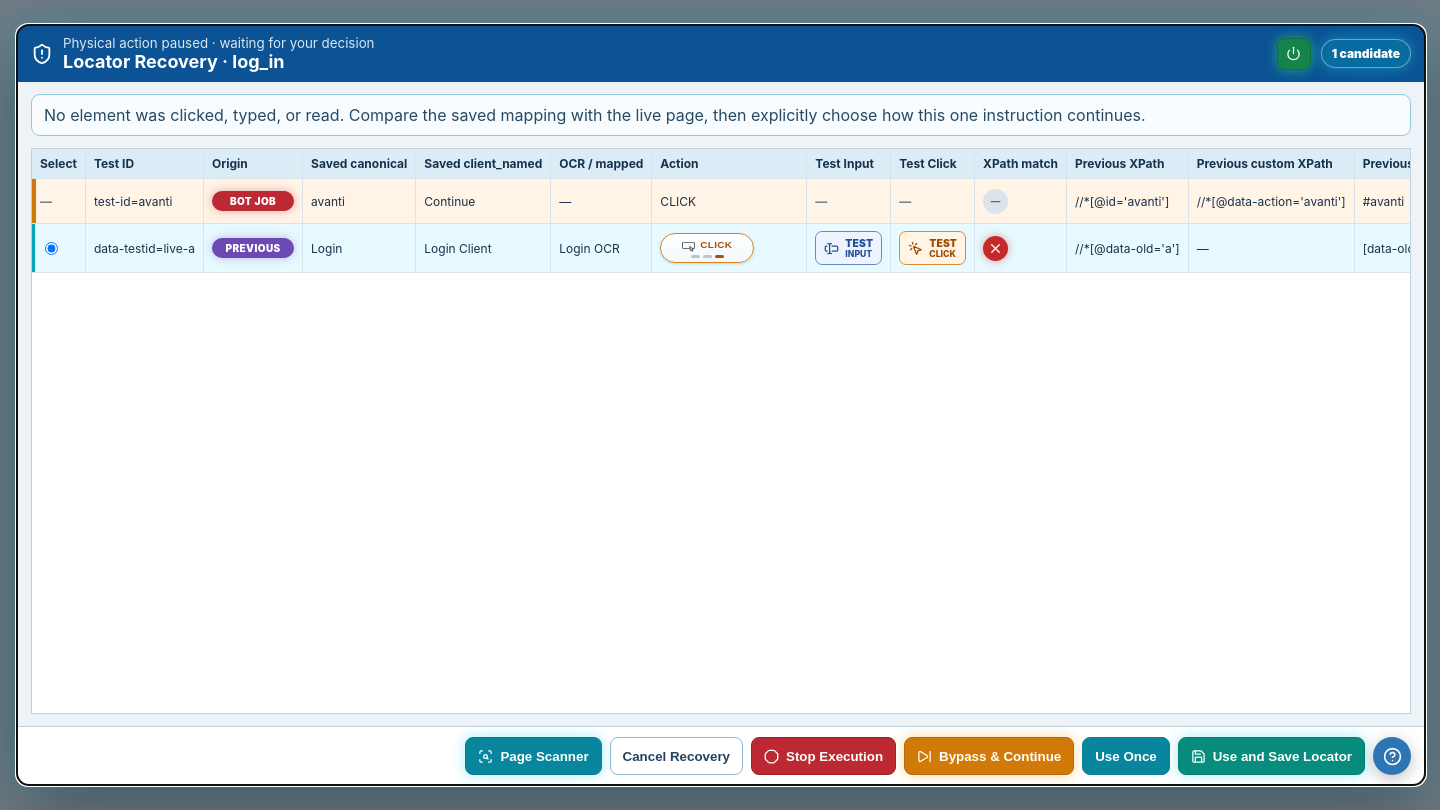
Test case: releases decision busy state after a rejected terminal request
Click the button "Use Once". click: (1126, 756)
box: [1082, 737, 1170, 775]
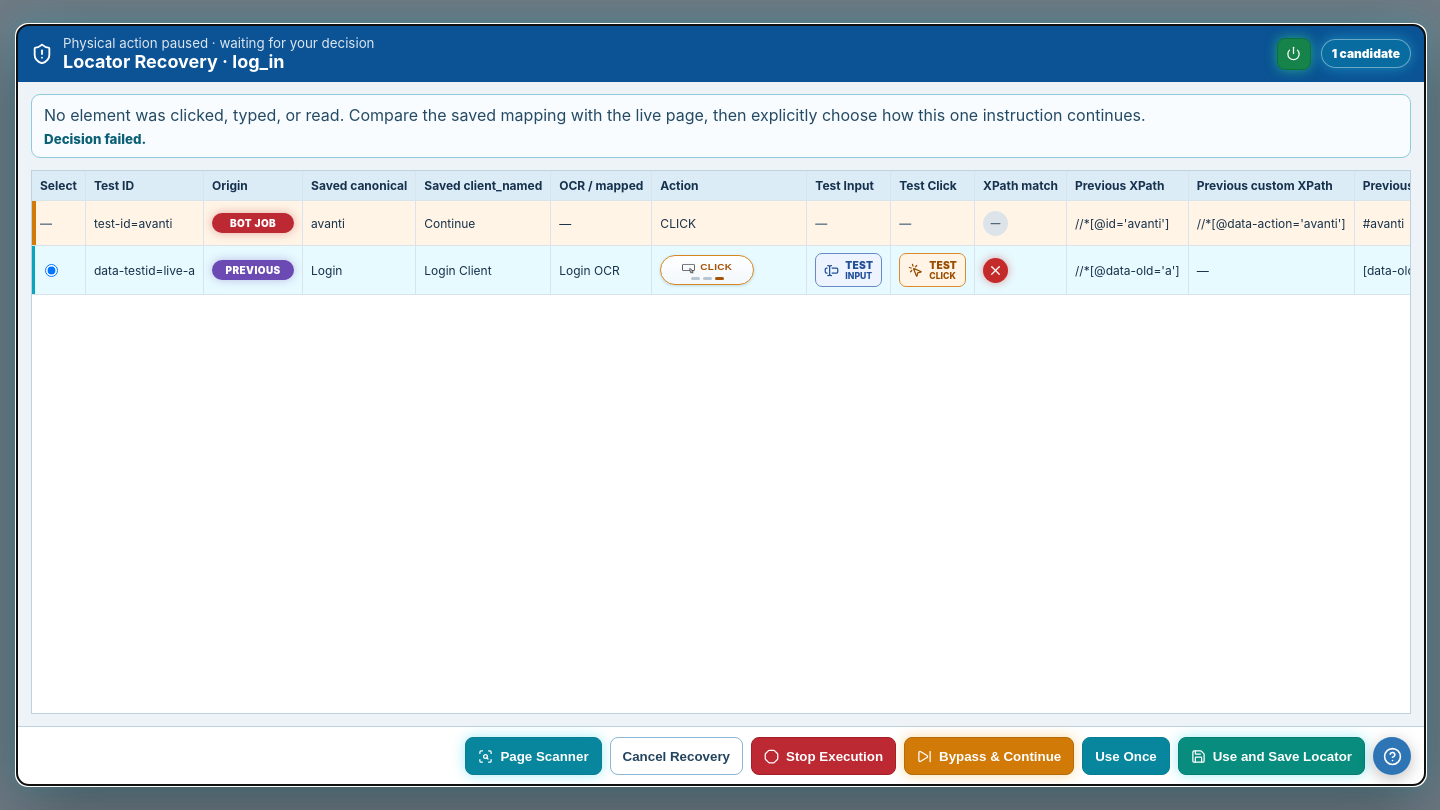
Check: the text "Decision failed." is shown, box [44, 131, 146, 147]
Click the button "Use Once". click: (1126, 756)
box: [1082, 737, 1170, 775]
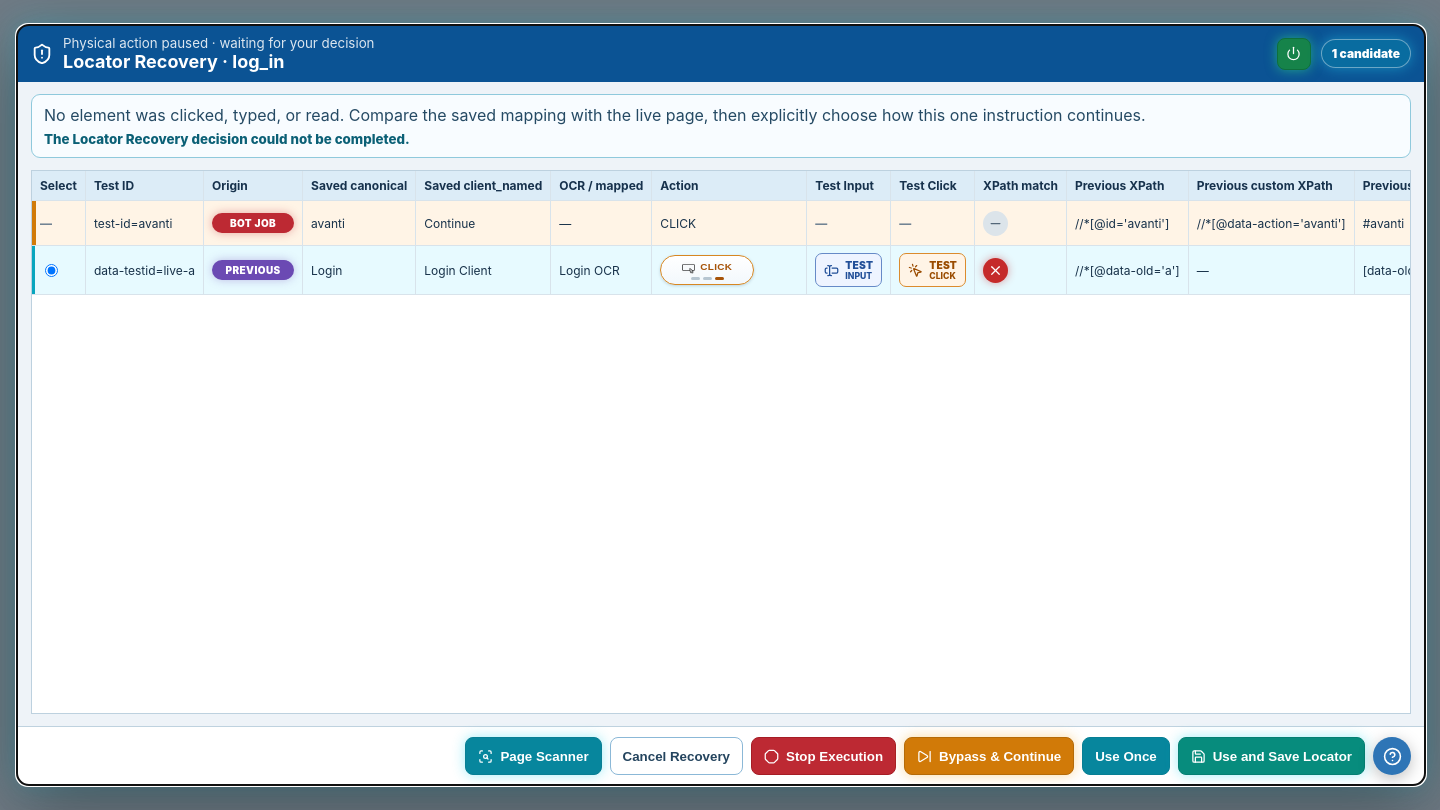
Check: the text "The Locator Recovery decision could not be completed." is shown, box [44, 131, 410, 147]
